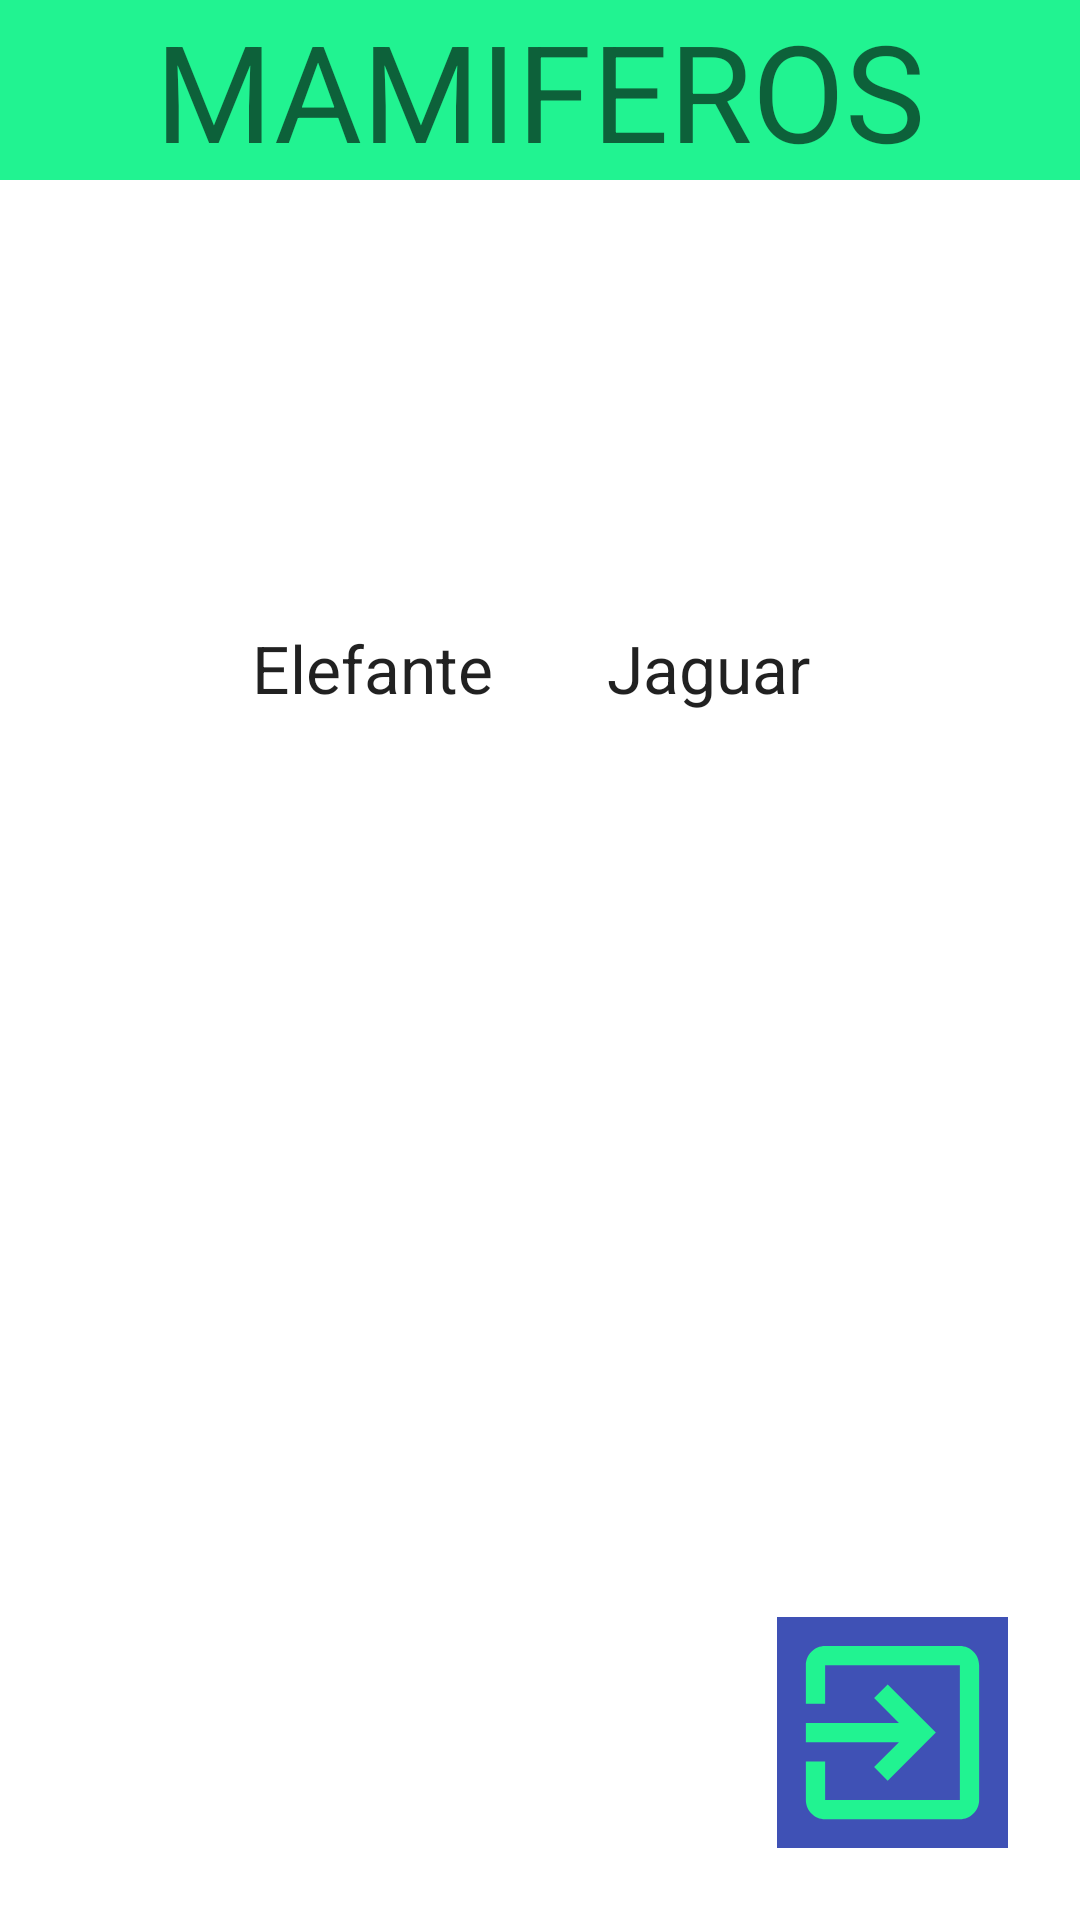

Named icons in this screenshot (1080px x 1920px) and their bounding boxes, [x1,y1,x2,y2]:
exit to app: [777,1617,1008,1848]
